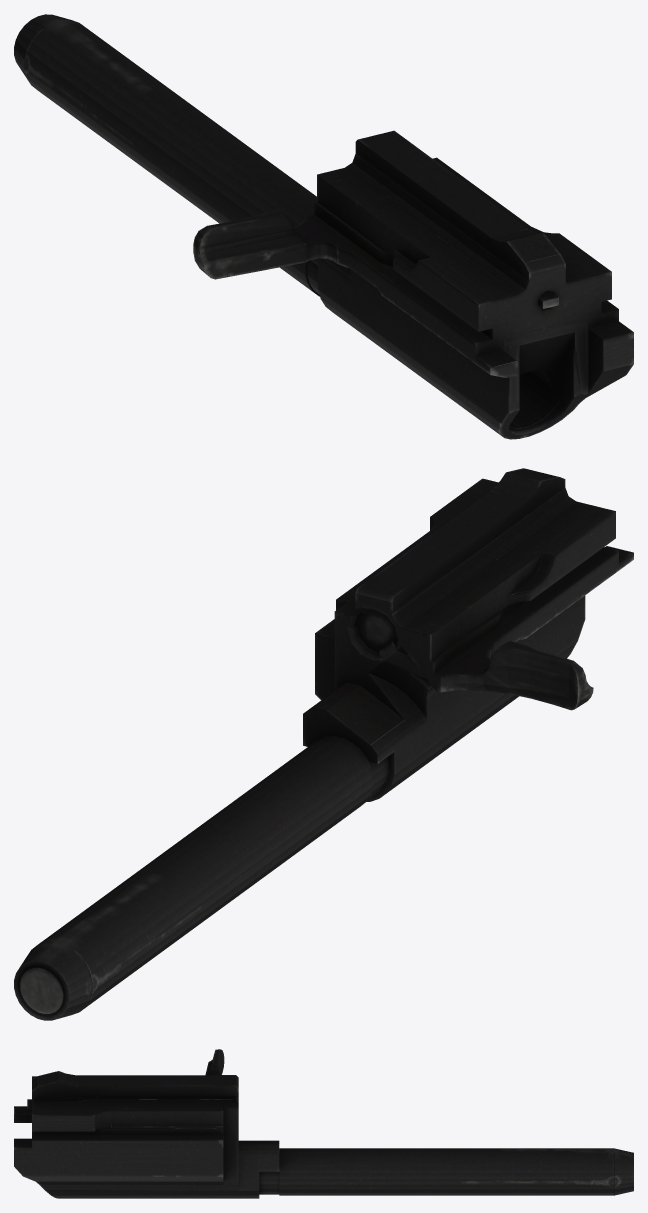
3 renders of one model, top to bottom at view 1: azimuth 30°, elevation 25°; view 2: azimuth 150°, elevation 25°; view 3: azimuth 270°, elevation 25°, orthographic. The views are drawn at different scales.
Parts seen in each view (by area): view 1: TW_59f9cabd86f7743a10721f46_PZ_Import; view 2: TW_59f9cabd86f7743a10721f46_PZ_Import; view 3: TW_59f9cabd86f7743a10721f46_PZ_Import.
Part boxes in pixels (bbox=[...]): TW_59f9cabd86f7743a10721f46_PZ_Import: bbox=[14, 14, 633, 439]; TW_59f9cabd86f7743a10721f46_PZ_Import: bbox=[14, 468, 633, 1020]; TW_59f9cabd86f7743a10721f46_PZ_Import: bbox=[14, 1049, 633, 1198].
Bounding box in the file's own units: 0.0356 × 0.1204 × 0.0256.
1 material, 1 textured.
